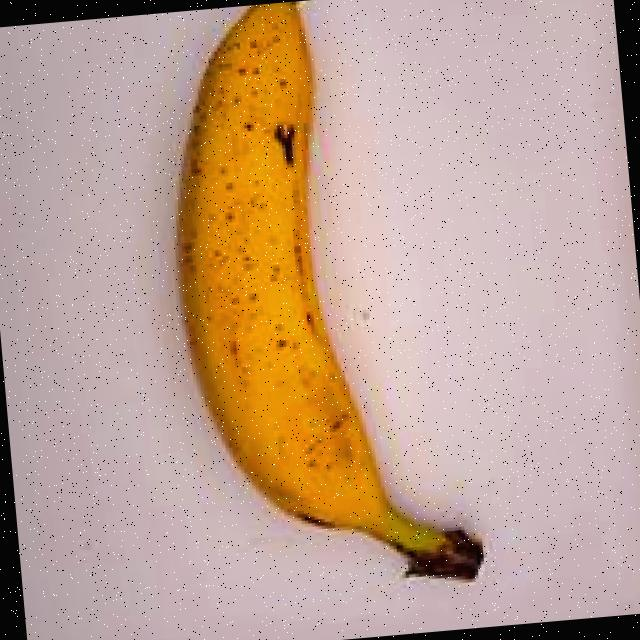Overripe: (124, 0, 499, 620)
